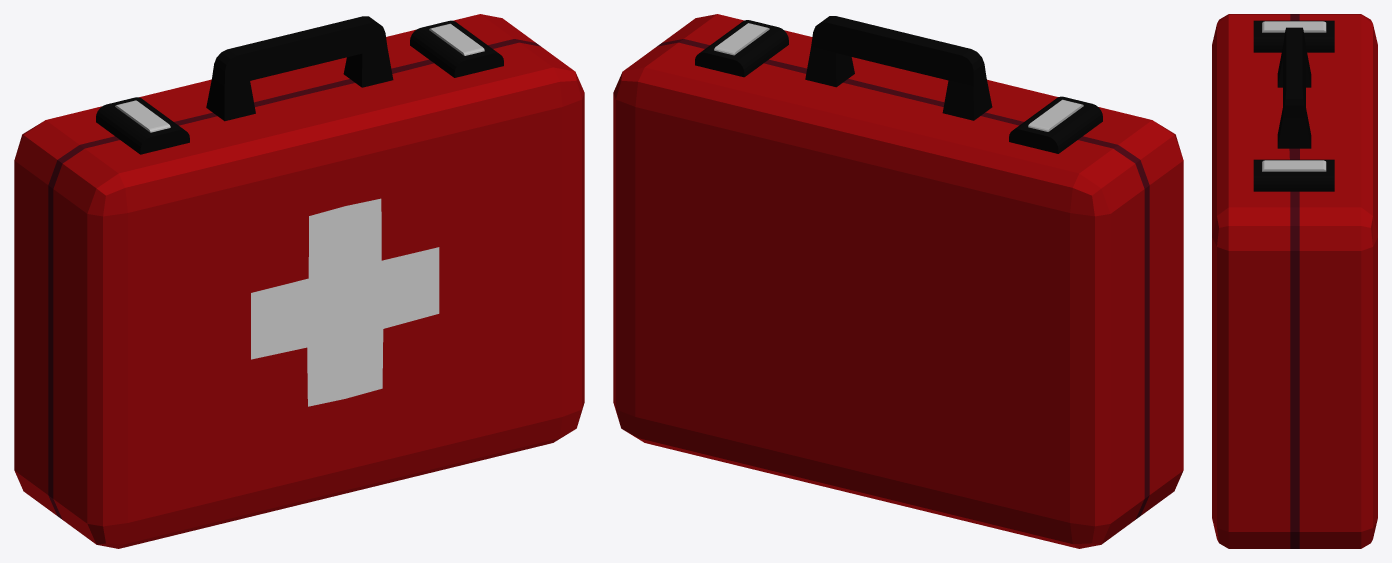
Rendered from medkit.fbx.
3 views of the same model, side by side, from view 1: azimuth 30°, elevation 25°; view 2: azimuth 150°, elevation 25°; view 3: azimuth 270°, elevation 25° (orthographic). The views are drawn at different scales.
Parts seen in each view (by area): view 1: Cube; view 2: Cube; view 3: Cube.
Boxes of the visible parts, x1=… form: Cube: x1=14, y1=14, x2=584, y2=548; Cube: x1=613, y1=14, x2=1183, y2=548; Cube: x1=1212, y1=14, x2=1377, y2=548.
Size of the model in its own units: 492 by 421 by 157.
